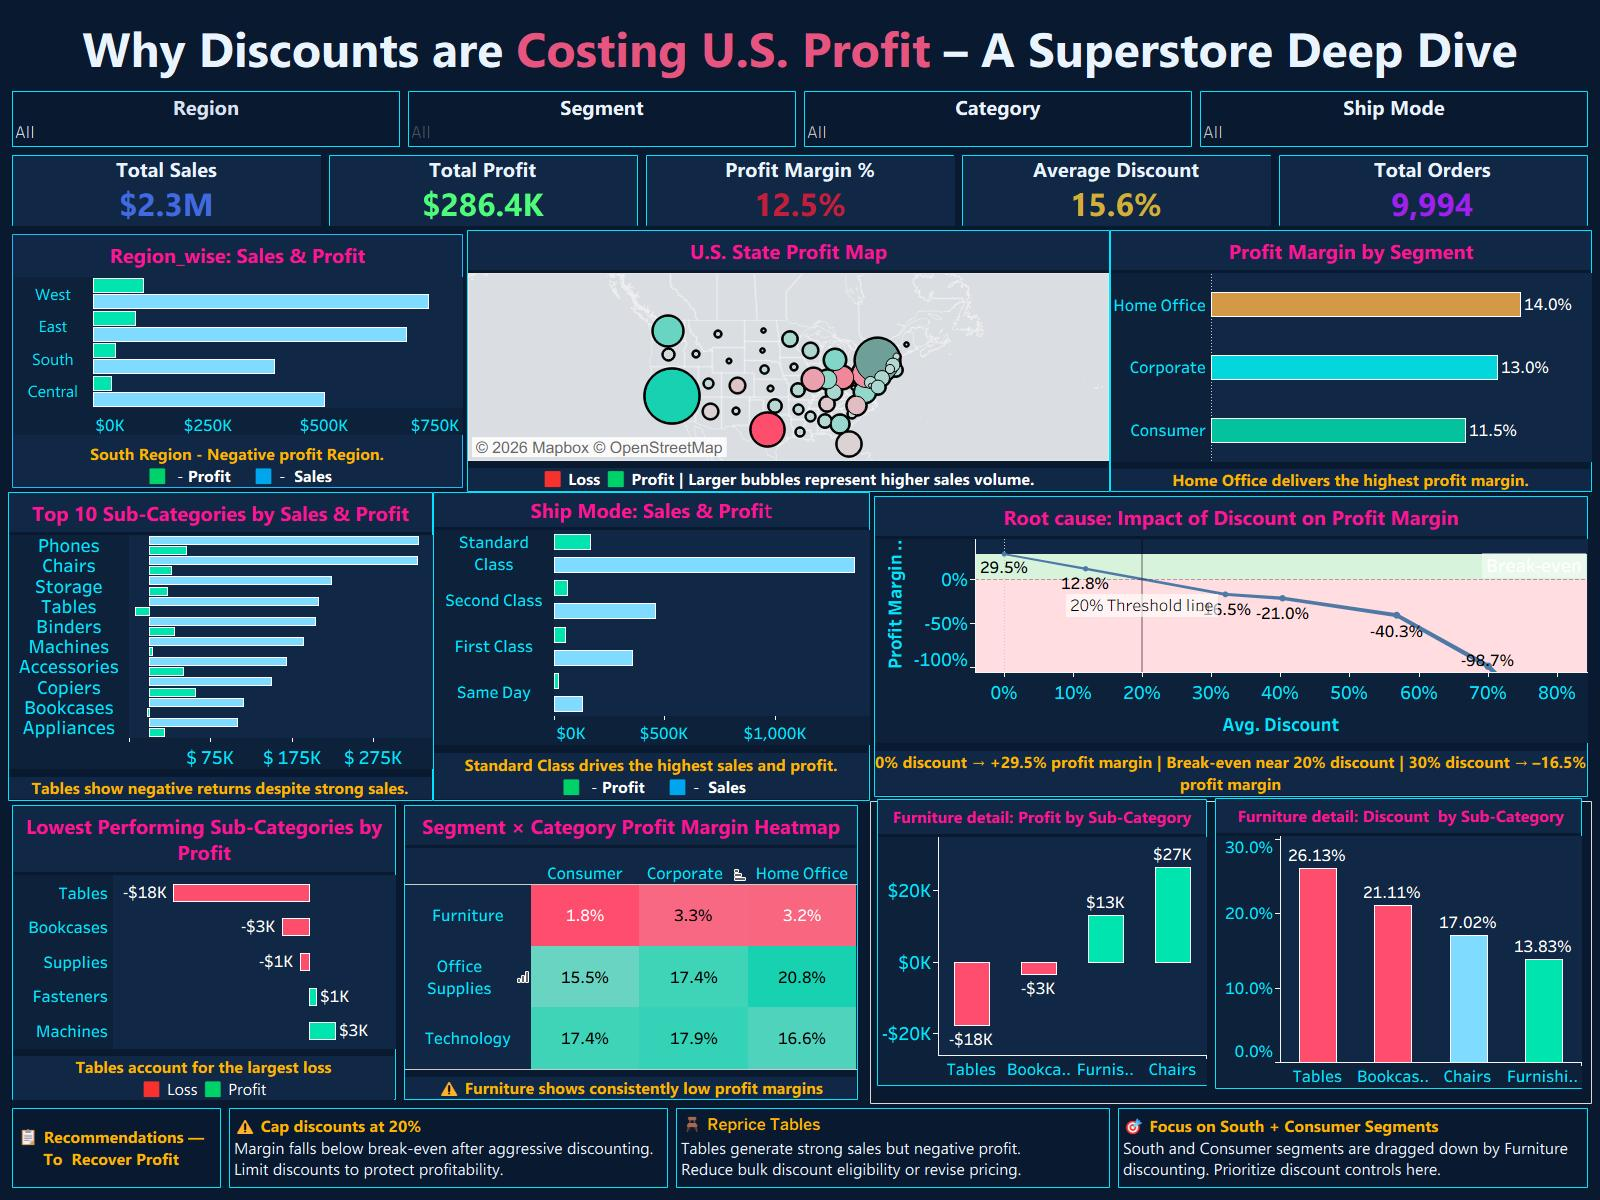

The page's visual inventory and layout, read from the dashboard file:
{"tool":"tableau","page":{"name":"Dashboard_Final","canvas":[1600,1200],"ordinal":0},"visuals":[{"type":"title","box":[8,8,1584,79]},{"type":"filter","title":"1. Region wise: Sales & Profit","param":"[federated.0wh6ns01njkgdx14ri9wf0gb5j5b].[none:Region:nk]","box":[8,87,396,64]},{"type":"filter","title":"3.Segment Profit Margin","param":"[federated.0wh6ns01njkgdx14ri9wf0gb5j5b].[none:Segment:nk]","box":[404,87,396,64]},{"type":"filter","title":"8. Segment X Category PM","param":"[federated.0wh6ns01njkgdx14ri9wf0gb5j5b].[none:Category:nk]","box":[800,87,396,64]},{"type":"filter","title":"5. Shipmode: Sales & Profit","param":"[federated.0wh6ns01njkgdx14ri9wf0gb5j5b].[none:Ship Mode:nk]","box":[1196,87,396,64]},{"type":"worksheet","title":"KPI_sales","mark":"Automatic","box":[8,151,316.8,79]},{"type":"worksheet","title":"KPI_profit","mark":"Automatic","box":[324.8,151,316.8,79]},{"type":"worksheet","title":"KPI_Profit Margin","mark":"Automatic","box":[641.6,151,316.8,79]},{"type":"worksheet","title":"KPI_Avg, Discount","mark":"Automatic","box":[958.4,151,316.8,79]},{"type":"worksheet","title":"KPI_Total Orders","mark":"Automatic","box":[1275.2,151,316.8,79]},{"type":"worksheet","title":"1. Region wise: Sales & Profit","mark":"Automatic","rows":["Region"],"box":[8,230,459,262.1]},{"type":"worksheet","title":"2. US State Profit Map","mark":"Circle","box":[467,230,643,262.1]},{"type":"worksheet","title":"3.Segment Profit Margin","mark":"Bar","rows":["Segment"],"cols":["Calculation_1448888322596864"],"box":[1110,230,482,262.1]},{"type":"worksheet","title":"4. Top 10 subcategory","mark":"Automatic","rows":["Sub-Category"],"box":[8,492.1,425,308.4]},{"type":"worksheet","title":"5. Shipmode: Sales & Profit","mark":"Automatic","rows":["Ship Mode"],"box":[433,492.1,436.6,308.4]},{"type":"worksheet","title":"6. Root Cause: Disc Vs PM","mark":"Line","rows":["Calculation_1448888322596864"],"cols":["Discount"],"box":[869.6,492.1,722.4,308.4]},{"type":"worksheet","title":"9.2. Furniture Detail: Discount","mark":"Automatic","rows":["Calculation_2211676212957191"],"cols":["Sub-Category"],"box":[1215,798,367,291]},{"type":"worksheet","title":"9.1. Furniture Detail: Profit","mark":"Automatic","rows":["Profit"],"cols":["Sub-Category"],"box":[877,799,330,287]},{"type":"worksheet","title":"7. Lowest Performing Sub-Categories by Profit","mark":"Automatic","rows":["Sub-Category"],"cols":["Profit"],"box":[8,800.5,392,303.6]},{"type":"worksheet","title":"8. Segment X Category PM","mark":"Square","rows":["Category"],"cols":["Segment"],"box":[400,800.5,462,303.6]},{"type":"text","box":[8,1104.1,217,87.9]},{"type":"text","box":[225,1104.1,447,87.9]},{"type":"text","box":[672,1104.1,442,87.9]},{"type":"text","box":[1114,1104.1,478,87.9]}]}

Visuals, with their boxes in screenshot pixels (x1, y1, x2, y2), scaled from the page's 1600x1200 canvas onto the 1600x1200 screenshot:
title: select_region(8, 8, 1592, 87)
"1. Region wise: Sales & Profit" filter: select_region(8, 87, 404, 151)
"3.Segment Profit Margin" filter: select_region(404, 87, 800, 151)
"8. Segment X Category PM" filter: select_region(800, 87, 1196, 151)
"5. Shipmode: Sales & Profit" filter: select_region(1196, 87, 1592, 151)
"KPI_sales" worksheet: select_region(8, 151, 325, 230)
"KPI_profit" worksheet: select_region(325, 151, 642, 230)
"KPI_Profit Margin" worksheet: select_region(642, 151, 958, 230)
"KPI_Avg, Discount" worksheet: select_region(958, 151, 1275, 230)
"KPI_Total Orders" worksheet: select_region(1275, 151, 1592, 230)
"1. Region wise: Sales & Profit" worksheet: select_region(8, 230, 467, 492)
"2. US State Profit Map" worksheet (Circle marks): select_region(467, 230, 1110, 492)
"3.Segment Profit Margin" worksheet (Bar marks): select_region(1110, 230, 1592, 492)
"4. Top 10 subcategory" worksheet: select_region(8, 492, 433, 800)
"5. Shipmode: Sales & Profit" worksheet: select_region(433, 492, 870, 800)
"6. Root Cause: Disc Vs PM" worksheet (Line marks): select_region(870, 492, 1592, 800)
"9.2. Furniture Detail: Discount" worksheet: select_region(1215, 798, 1582, 1089)
"9.1. Furniture Detail: Profit" worksheet: select_region(877, 799, 1207, 1086)
"7. Lowest Performing Sub-Categories by Profit" worksheet: select_region(8, 800, 400, 1104)
"8. Segment X Category PM" worksheet (Square marks): select_region(400, 800, 862, 1104)
text: select_region(8, 1104, 225, 1192)
text: select_region(225, 1104, 672, 1192)
text: select_region(672, 1104, 1114, 1192)
text: select_region(1114, 1104, 1592, 1192)
